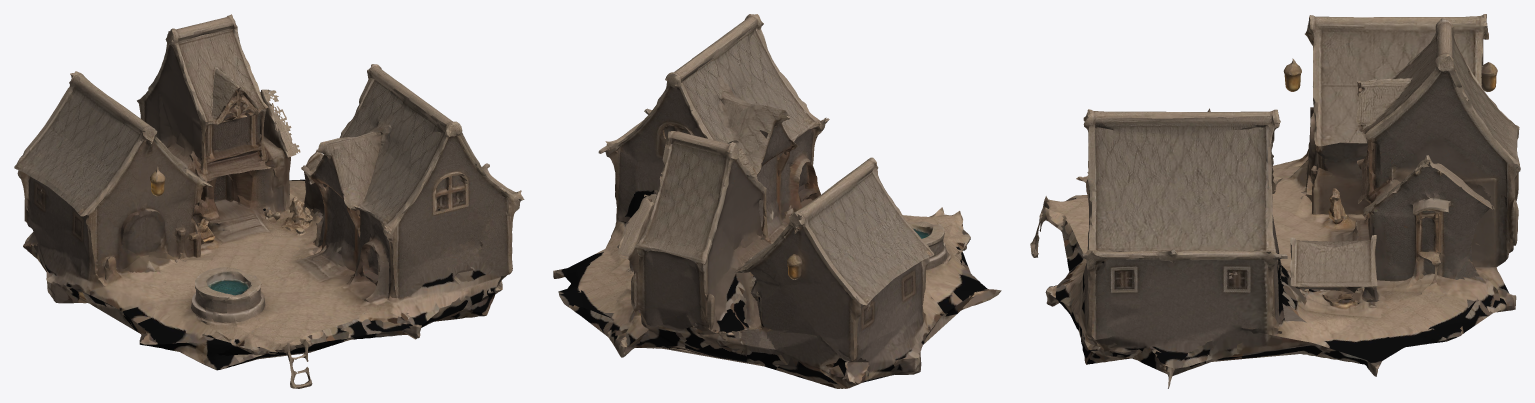
Rendered from elf_town.glb.
3 renders of one model, left to right at view 1: azimuth 30°, elevation 25°; view 2: azimuth 150°, elevation 25°; view 3: azimuth 270°, elevation 25°, orthographic. The views are drawn at different scales.
Parts seen in each view (by area): view 1: output_unwrapped; view 2: output_unwrapped; view 3: output_unwrapped.
Boxes of the visible parts, box(x1,y1,x2,y2) form: output_unwrapped: box(14, 14, 524, 388); output_unwrapped: box(553, 14, 1001, 388); output_unwrapped: box(1030, 14, 1520, 388).
Size of the model in its own units: 1.87 by 1.11 by 1.87.
1 material, 1 textured.
